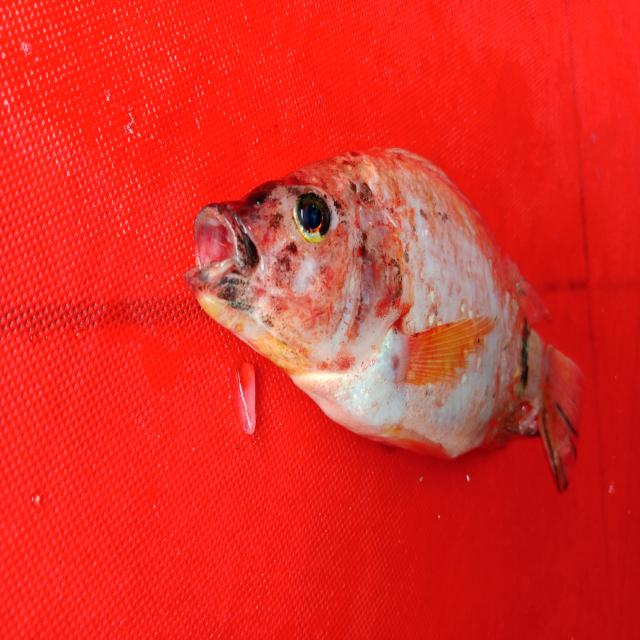ikan: (176, 109, 603, 503)
